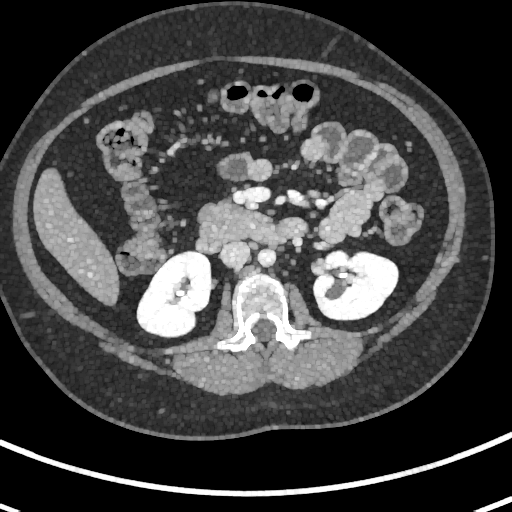Lesion: (320, 278, 350, 304)
